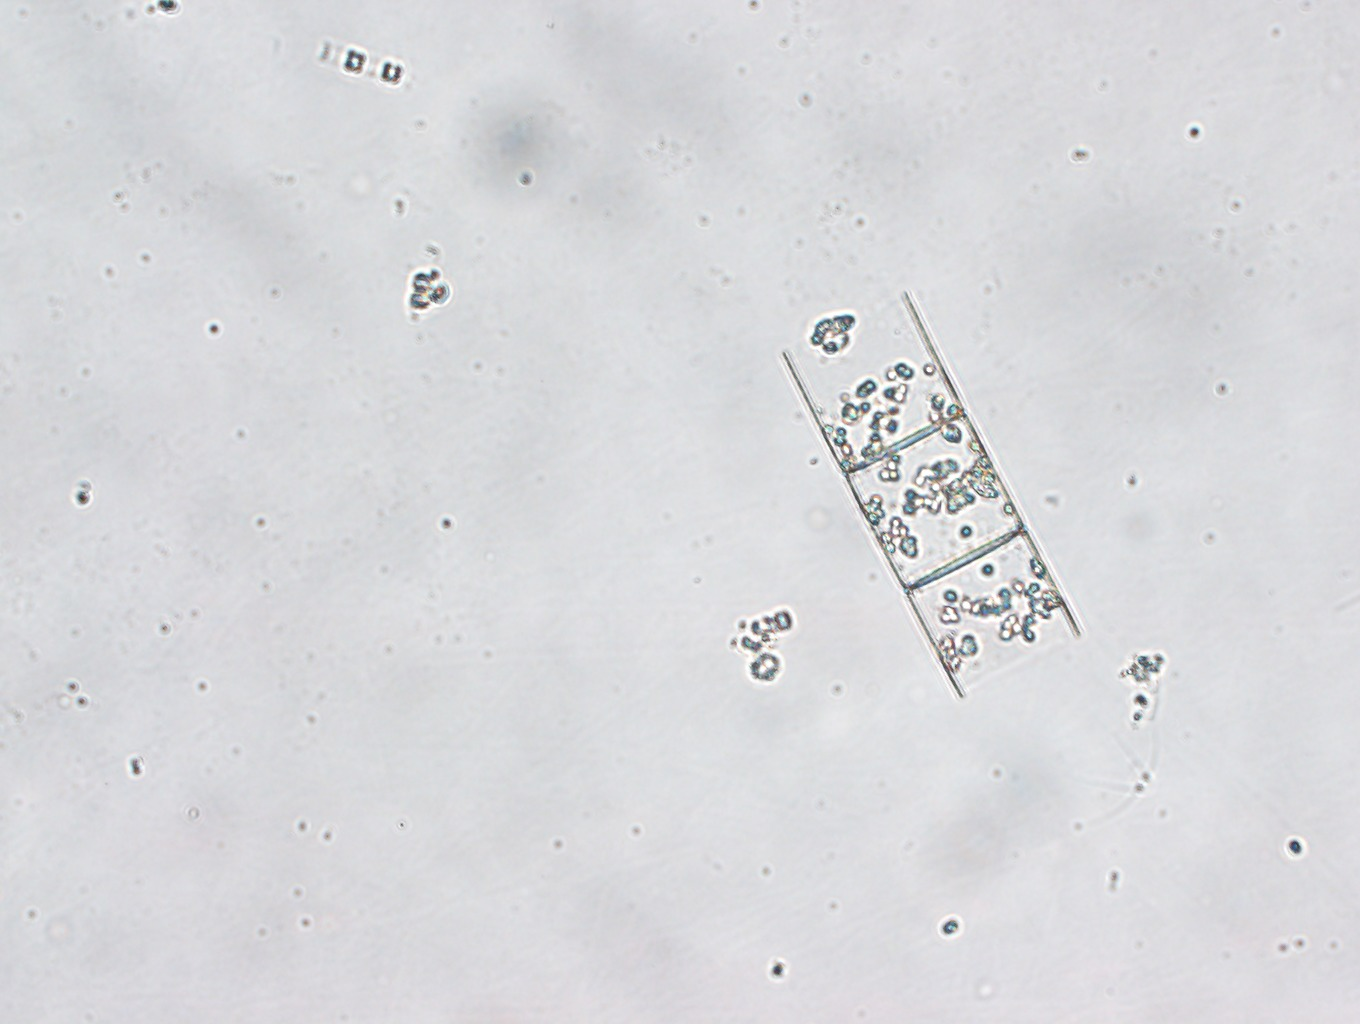guinardia flaccida: (781, 291, 1080, 699)
